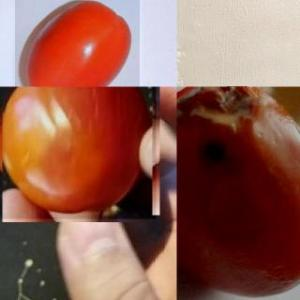tomato: (14, 0, 138, 86)
